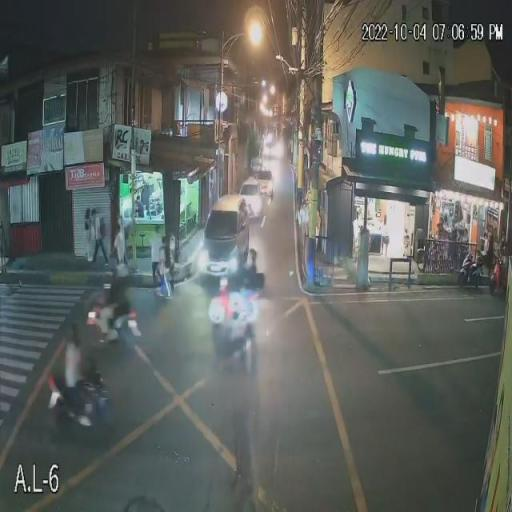helmet: (64, 322, 82, 344), (113, 262, 128, 276), (217, 275, 229, 287)
motorcycle: (208, 281, 261, 375), (45, 361, 109, 432), (86, 297, 144, 348), (456, 252, 486, 290), (487, 252, 507, 295)
rider: (62, 323, 96, 425), (96, 267, 131, 344), (209, 276, 244, 334), (238, 248, 264, 306), (462, 242, 482, 274), (488, 242, 504, 282)
